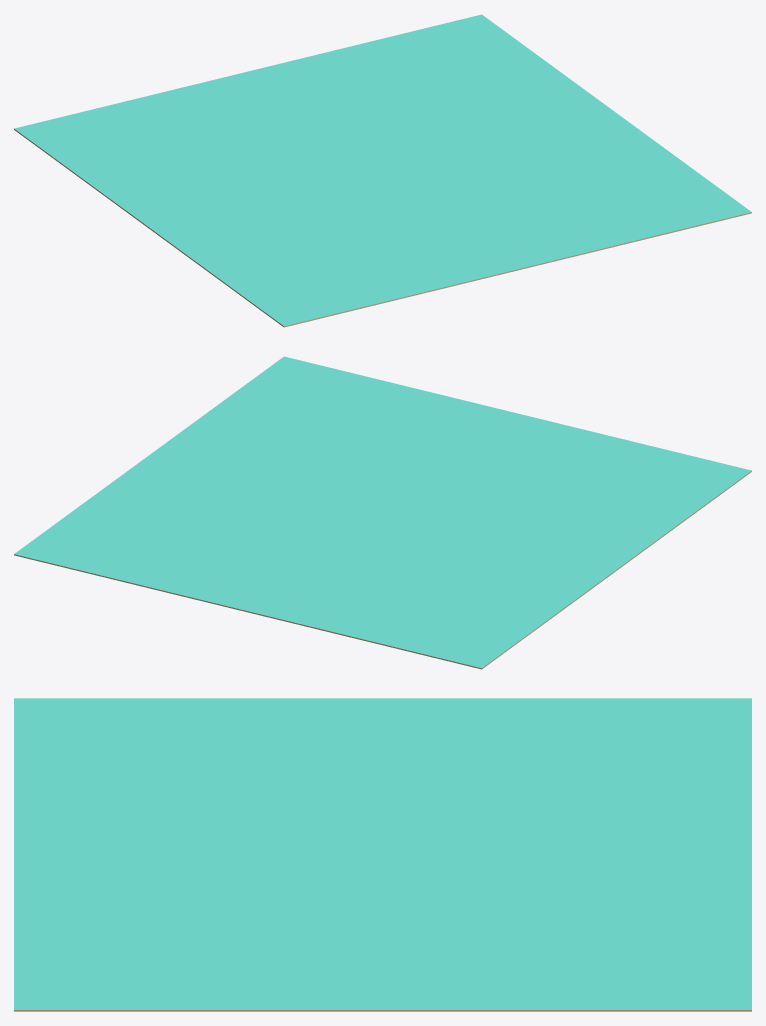
File: grass.glb
3 renders of one model, top to bottom at view 1: azimuth 30°, elevation 25°; view 2: azimuth 150°, elevation 25°; view 3: azimuth 270°, elevation 25°, orthographic. The views are drawn at different scales.
Visible parts, largest first — view 1: cliff_blockQuarter_rock.001; view 2: cliff_blockQuarter_rock.001; view 3: cliff_blockQuarter_rock.001.
Boxes of the visible parts, box(x1,y1,x2,y2) form: cliff_blockQuarter_rock.001: box(14, 14, 751, 327); cliff_blockQuarter_rock.001: box(14, 356, 751, 669); cliff_blockQuarter_rock.001: box(14, 698, 751, 1011).
Size of the model in its own units: 100 by 0.25 by 100.
